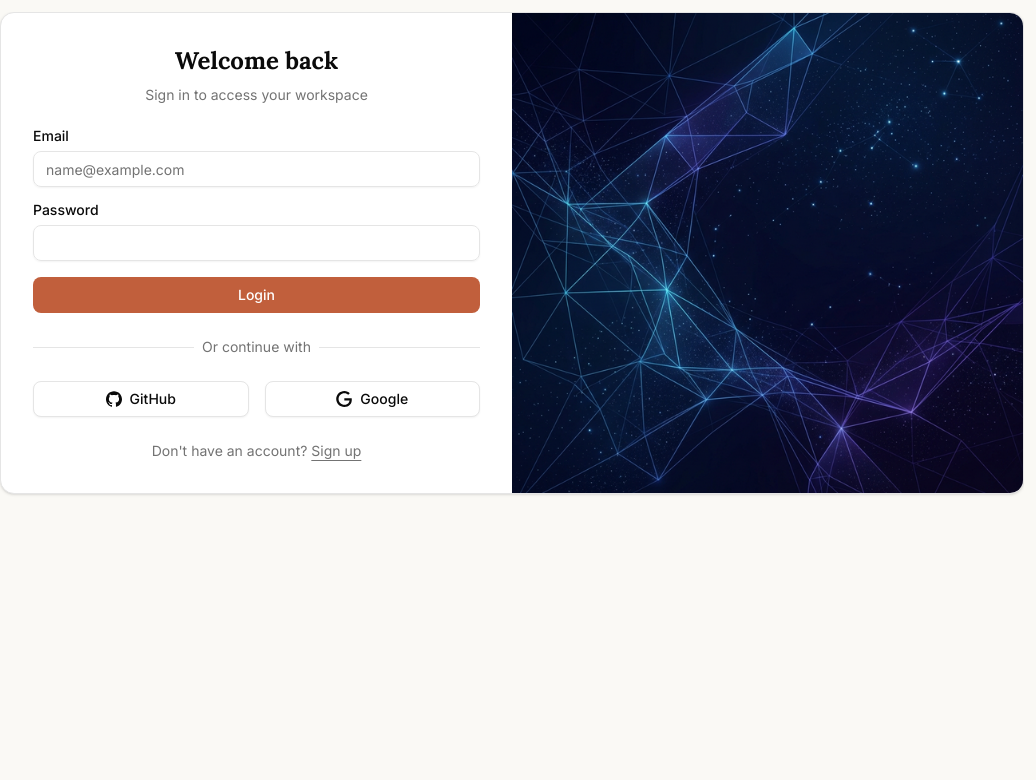
LoginForm › shows error when social login fails
What coordinates should you click on to do the following:
click the button with aria-label "login with github"
I would click on:
 (141, 399)
Its box is [33,381,248,417].
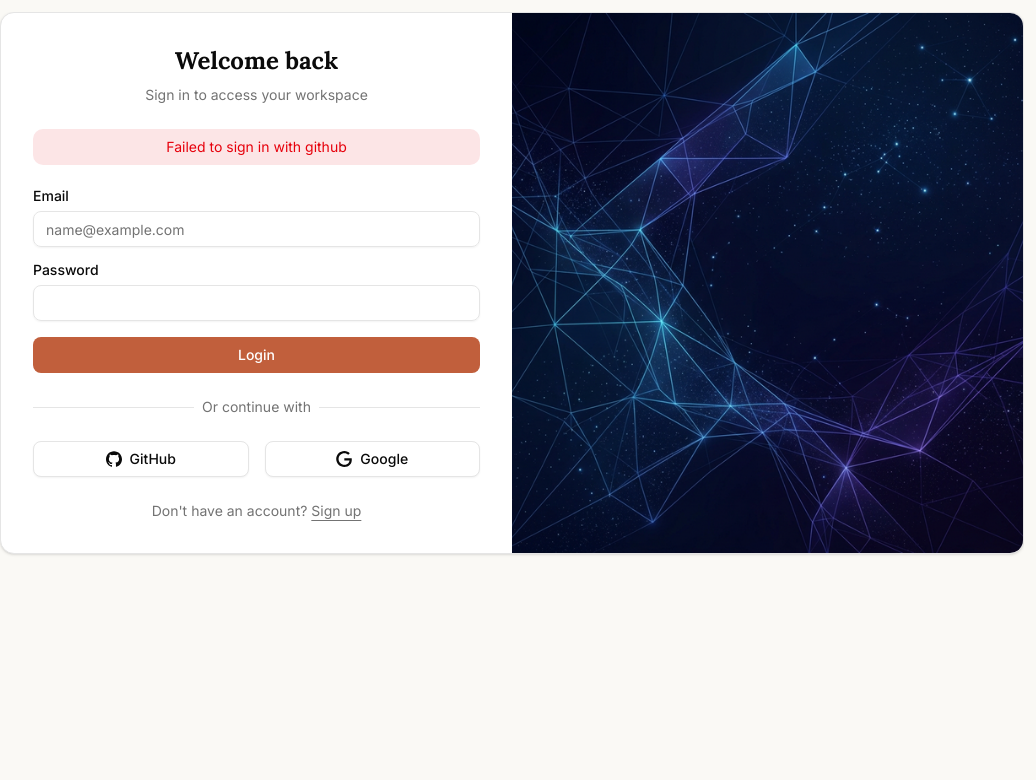
Check: the text "Failed to sign in with github" is shown, box [33,129,480,165]
